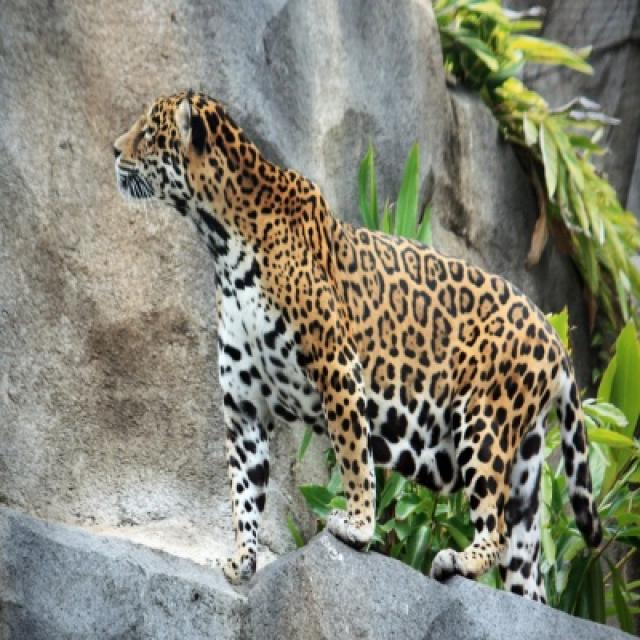Jaguar: (114, 98, 603, 602)
